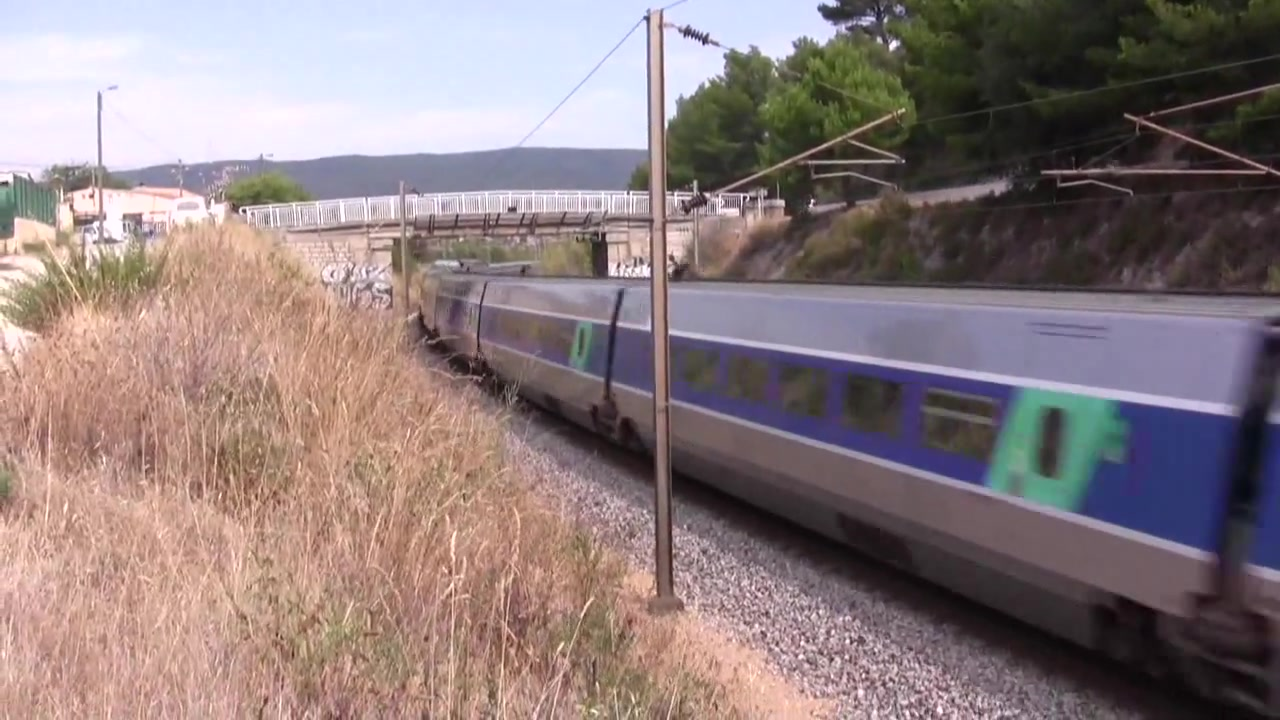train: (414, 264, 1280, 720)
